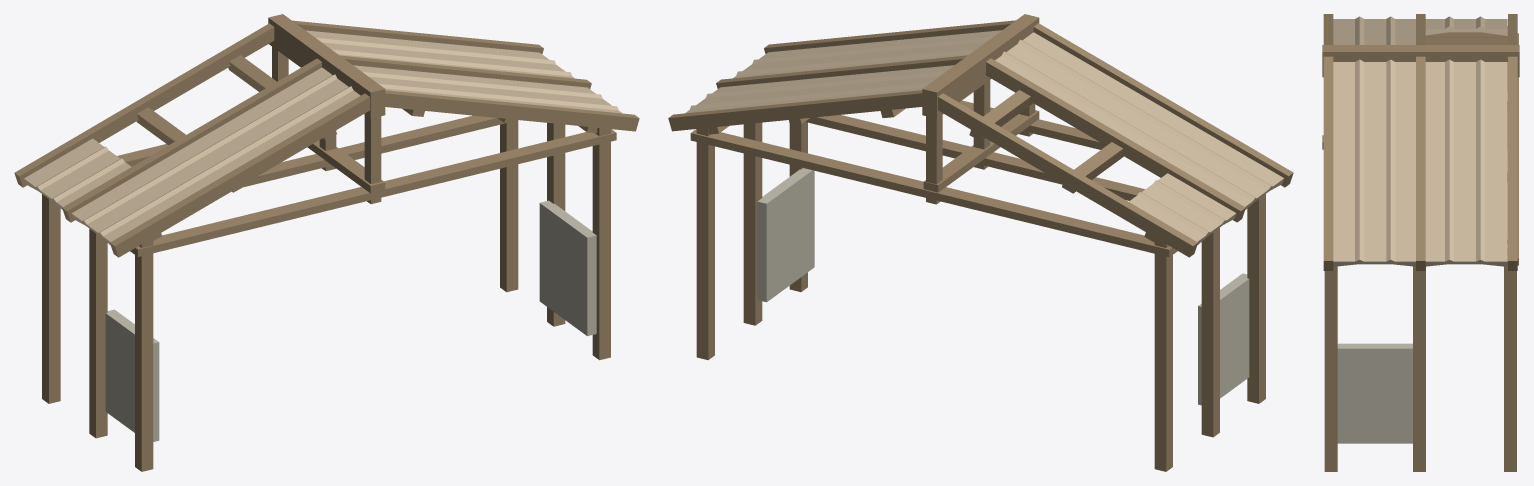
Rendered from LightWoodBuildingSmallRoofingSection1.fbx.
3 renders of one model, left to right at view 1: azimuth 30°, elevation 25°; view 2: azimuth 150°, elevation 25°; view 3: azimuth 270°, elevation 25°, orthographic. The views are drawn at different scales.
Parts seen in each view (by area): view 1: LightWoodBuildingSmallRoofingSection1; view 2: LightWoodBuildingSmallRoofingSection1; view 3: LightWoodBuildingSmallRoofingSection1.
Part boxes in pixels (<box>): LightWoodBuildingSmallRoofingSection1: <box>14,14,639,471</box>; LightWoodBuildingSmallRoofingSection1: <box>668,14,1293,471</box>; LightWoodBuildingSmallRoofingSection1: <box>1322,14,1519,471</box>.
Size of the model in its own units: 2308 by 1365 by 781.
